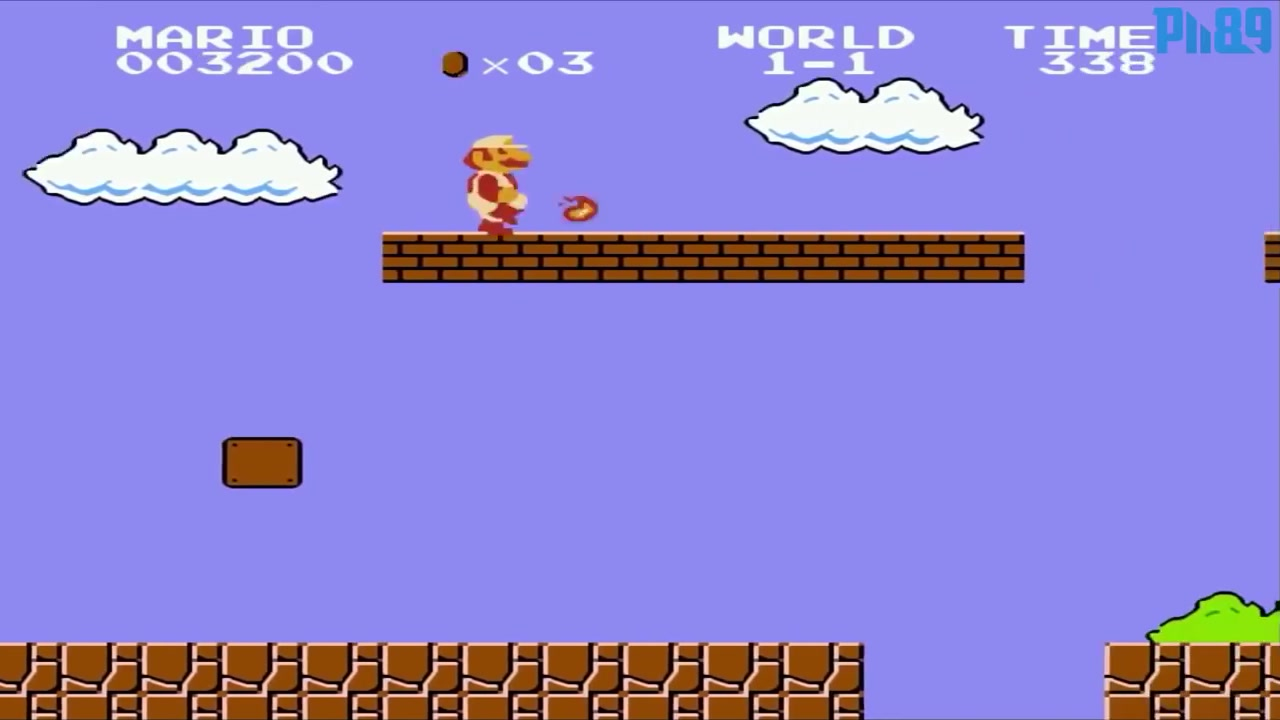mario: (453, 137, 537, 238)
